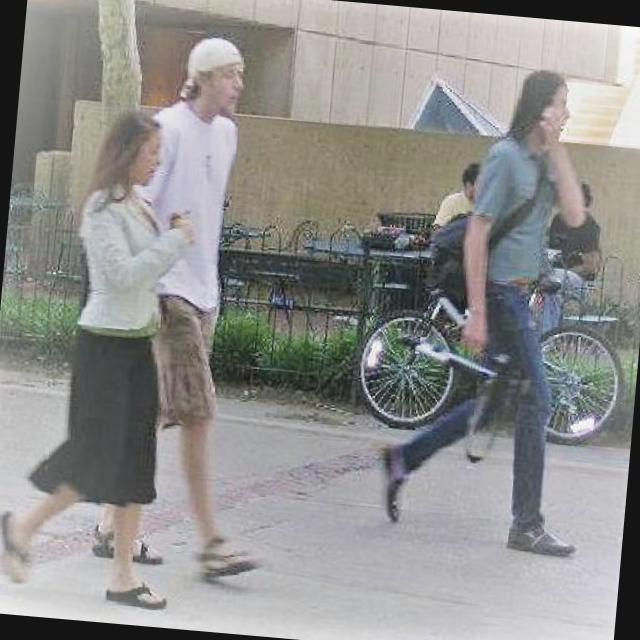Person: (374, 53, 622, 563), (0, 91, 212, 612), (114, 19, 306, 584)
